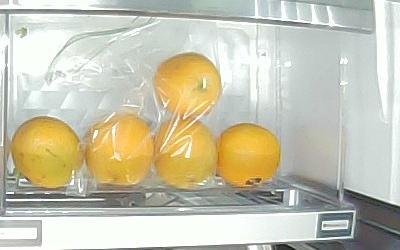orange: (10, 116, 84, 191), (217, 123, 282, 188)
orange_vinyl: (85, 113, 154, 188), (154, 117, 219, 190), (154, 53, 223, 118)
